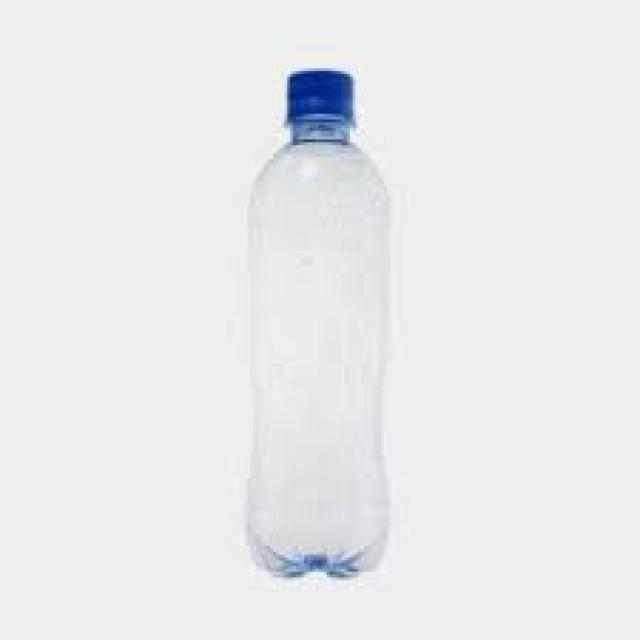plastic cup: (249, 70, 389, 576)
